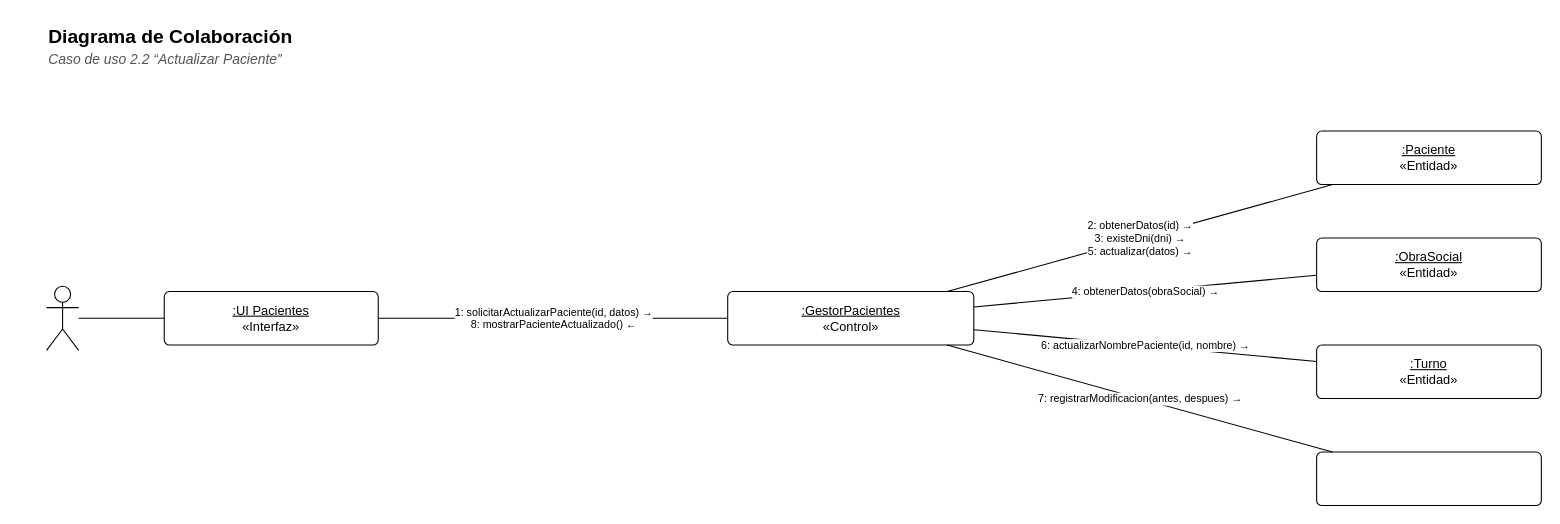
This 1560x524 diagram has some shape labels left out. Here are the shapes that lost their labels. From the top down, the centre of each, then its label:
At (x=62, y=317): "Administrador".
At (x=1428, y=478): ":GestorAuditoria «Control»".
